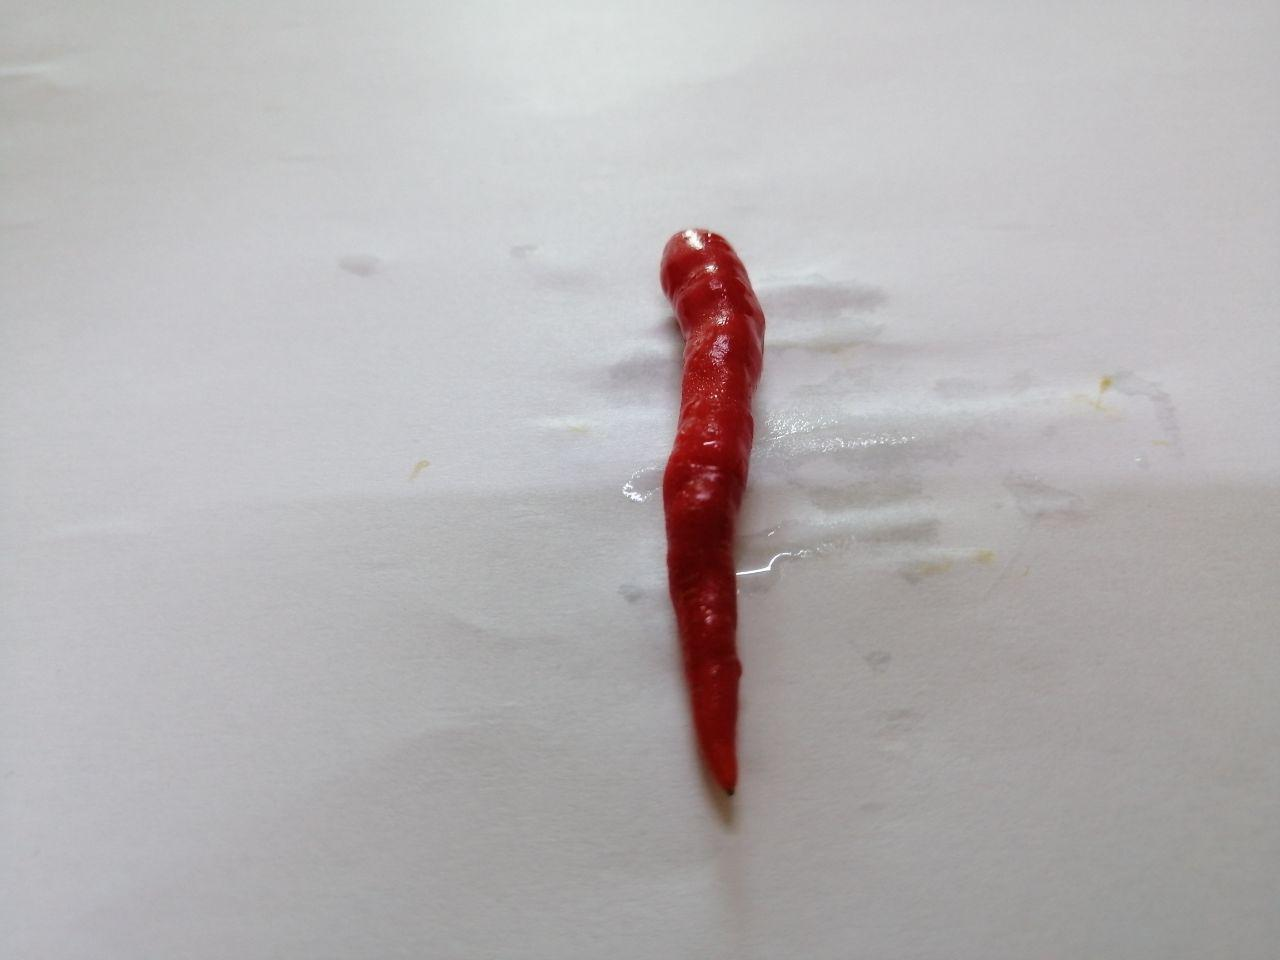lada merah: (627, 215, 796, 812)
